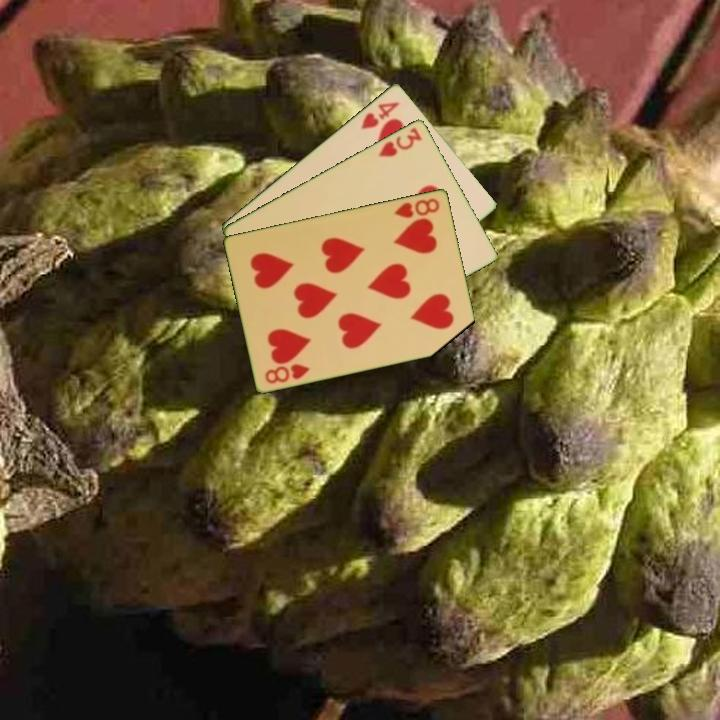3h: (375, 123, 424, 160)
4h: (357, 98, 402, 132)
8h: (391, 194, 443, 221), (262, 360, 313, 386)
